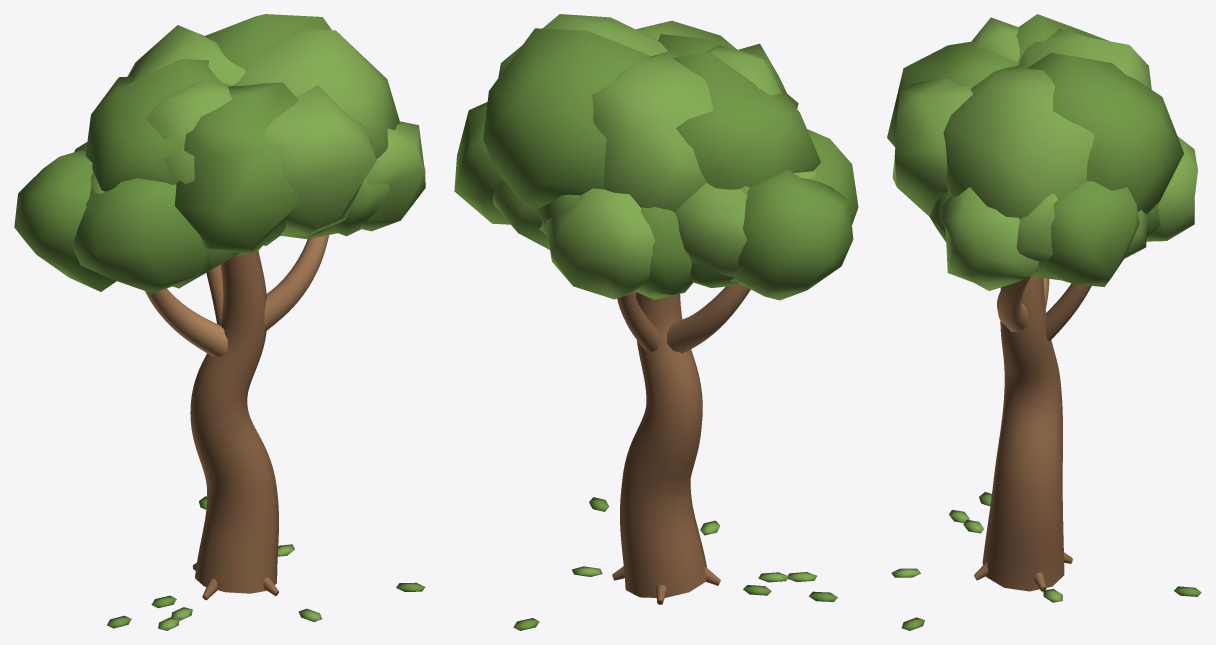
The model's file is leafy_tree.glb.
The picture shows the model from 3 angles, left to right: view 1: azimuth 30°, elevation 25°; view 2: azimuth 150°, elevation 25°; view 3: azimuth 270°, elevation 25°; orthographic projection. The views are drawn at different scales.
Parts seen in each view (by area): view 1: leafy_tree; view 2: leafy_tree; view 3: leafy_tree.
Boxes of the visible parts, x1=… form: leafy_tree: x1=14, y1=14, x2=425, y2=630; leafy_tree: x1=454, y1=14, x2=858, y2=630; leafy_tree: x1=887, y1=14, x2=1201, y2=630.
Size of the model in its own units: 0.8885 by 1.27 by 0.6671.
